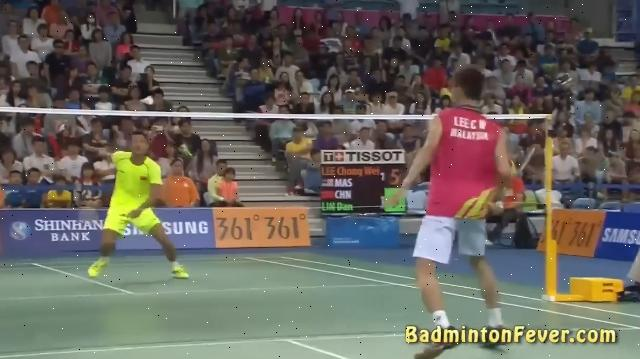Shuttlecock: (138, 95, 156, 106)
